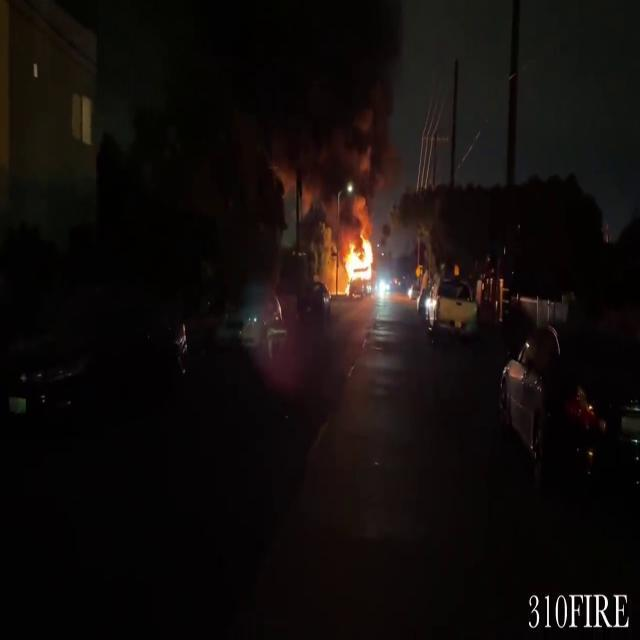Fire: (337, 230, 395, 300)
Smoke: (304, 108, 382, 212)
